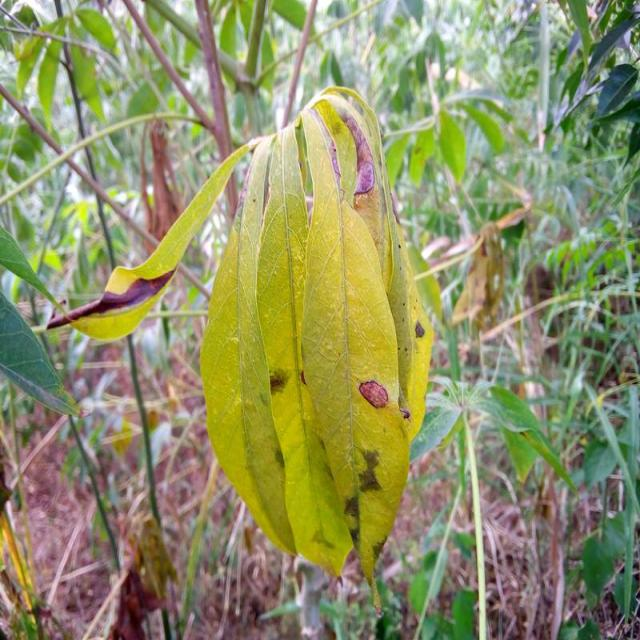cassava leaf: (44, 83, 436, 610)
